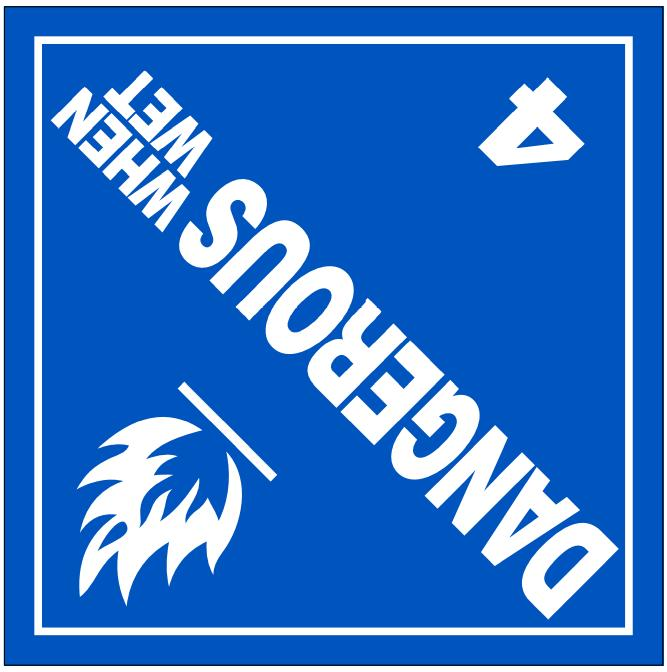dangerous-when-wet: (1, 1, 667, 672)
